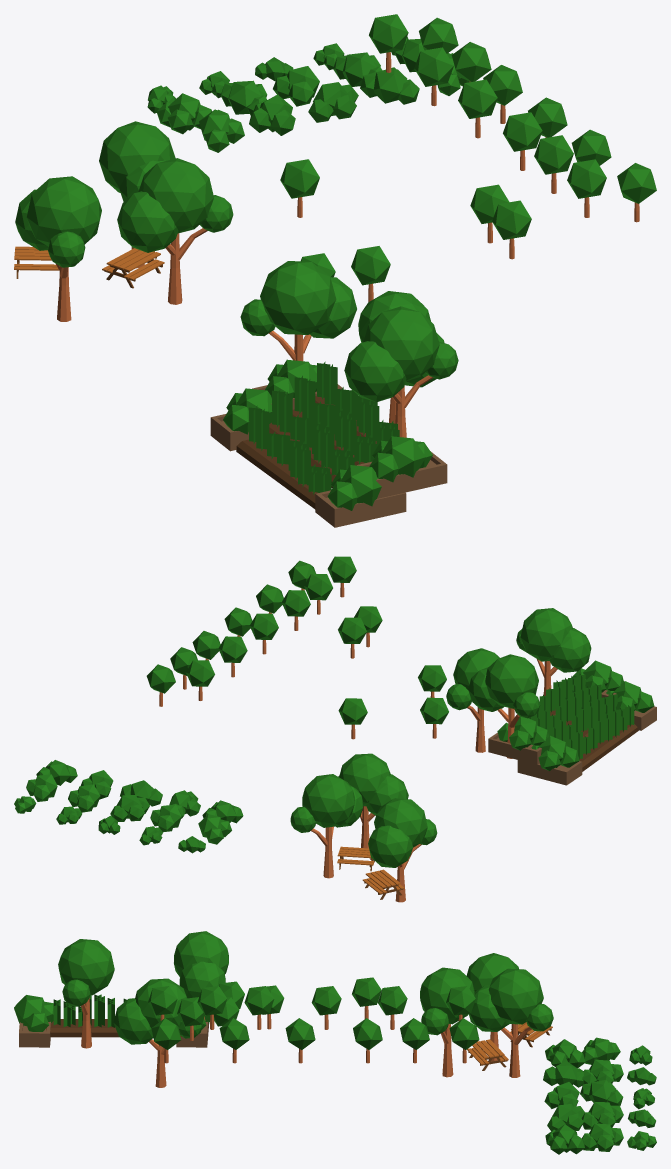
File: solution_23_hill_building.fbx
The picture shows the model from 3 angles, top to bottom: view 1: azimuth 30°, elevation 25°; view 2: azimuth 150°, elevation 25°; view 3: azimuth 270°, elevation 25°; orthographic projection. The views are drawn at different scales.
Visible parts, largest first — view 1: solution_23_hill_building; view 2: solution_23_hill_building; view 3: solution_23_hill_building.
Boxes of the visible parts, x1=… form: solution_23_hill_building: x1=14, y1=14, x2=656, y2=527; solution_23_hill_building: x1=14, y1=556, x2=656, y2=902; solution_23_hill_building: x1=14, y1=931, x2=656, y2=1154.
Size of the model in its own units: 2956 by 1384 by 4388.
